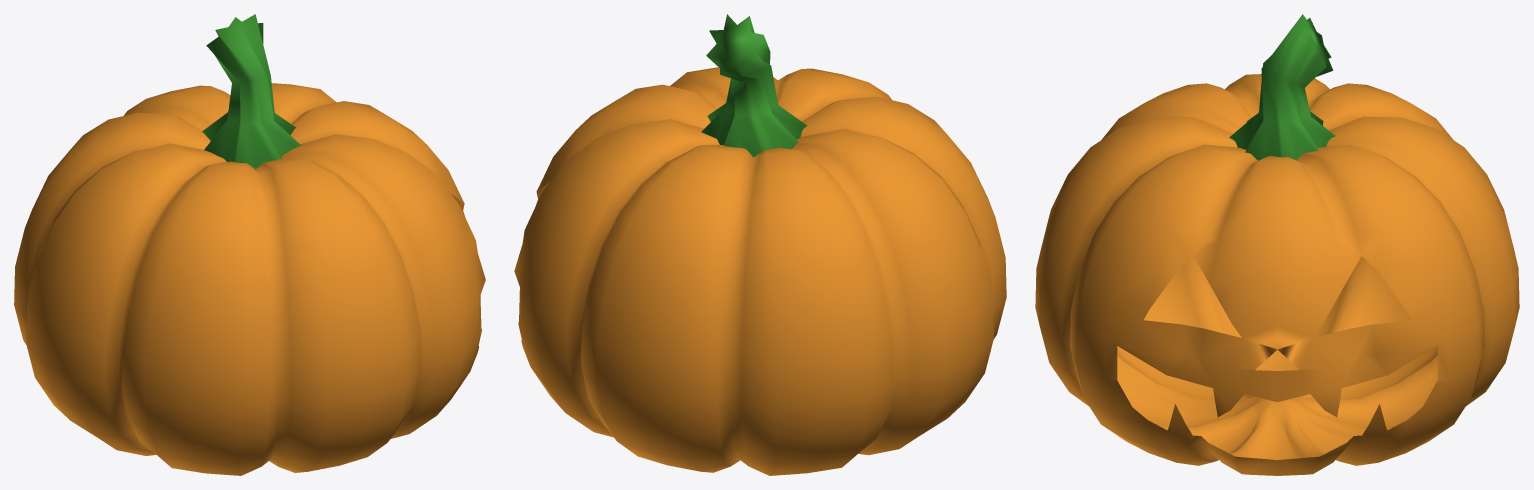
3 views of the same model, side by side, from view 1: azimuth 30°, elevation 25°; view 2: azimuth 150°, elevation 25°; view 3: azimuth 270°, elevation 25° (orthographic). The views are drawn at different scales.
Parts seen in each view (by area): view 1: 球, 円柱; view 2: 球, 円柱; view 3: 球, 円柱.
Part boxes in pixels (x1,y1,x2,y2): 球: (14,83,485,475); 円柱: (202,14,300,168); 球: (514,67,1006,475); 円柱: (701,14,807,157); 球: (1035,74,1519,475); 円柱: (1229,14,1335,160).
Bounding box in the file's own units: 2.11 × 1.97 × 2.12.
